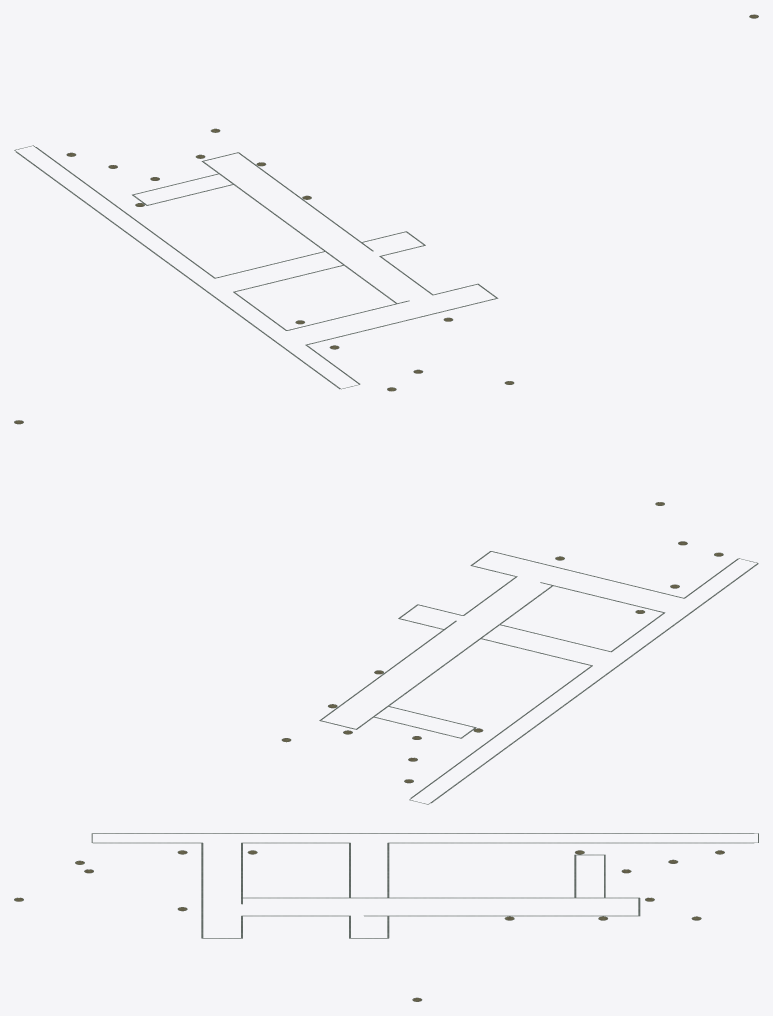
File: SM_QD_GroundDetail_StreetBands.fbx
The picture shows the model from 3 angles, top to bottom: view 1: azimuth 30°, elevation 25°; view 2: azimuth 150°, elevation 25°; view 3: azimuth 270°, elevation 25°; orthographic projection. The views are drawn at different scales.
Visible parts, largest first — view 1: SM_QD_GroundDetail_StreetBands; view 2: SM_QD_GroundDetail_StreetBands; view 3: SM_QD_GroundDetail_StreetBands.
Boxes of the visible parts, <box> form: SM_QD_GroundDetail_StreetBands: <box>14,14,758,391</box>; SM_QD_GroundDetail_StreetBands: <box>14,420,758,804</box>; SM_QD_GroundDetail_StreetBands: <box>14,833,758,1001</box>.
Bounding box in the file's own units: 67.03 × 73.33 × 13.66.
2 materials, 2 textured.
